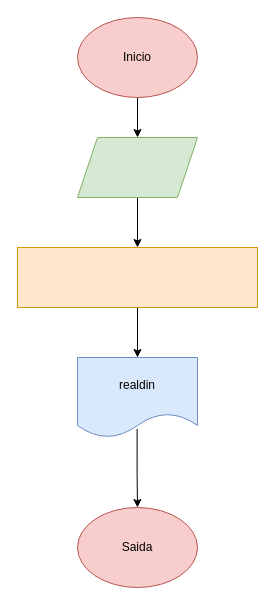
Some shapes in this 275 by 605 pixel diagram are drawn without their labels. The shapes that lost their labels are listed below. From the top down, each one's centre as x and y in pixels, then its label:
(137,167): dc, realdin, dq
(137,277): realdin <- dq * dc
